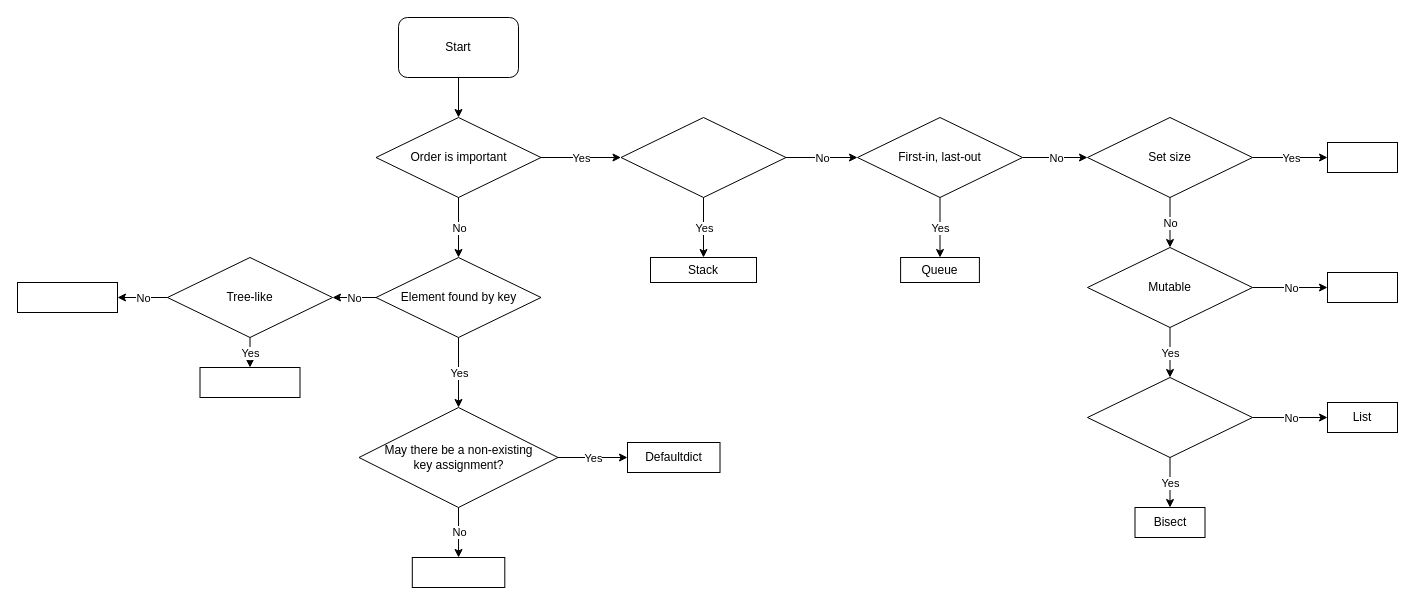
Some shapes in this 1415 by 605 pixel diagram are drawn without their labels. The centre of each missing label's shape, as x and y in pixels:
Array: point 1362,157
Dict: point 458,572
First-in, first-out: point 703,157
Heap: point 249,382
Set: point 67,297
Sorted: point 1169,417
Tuple: point 1362,287
